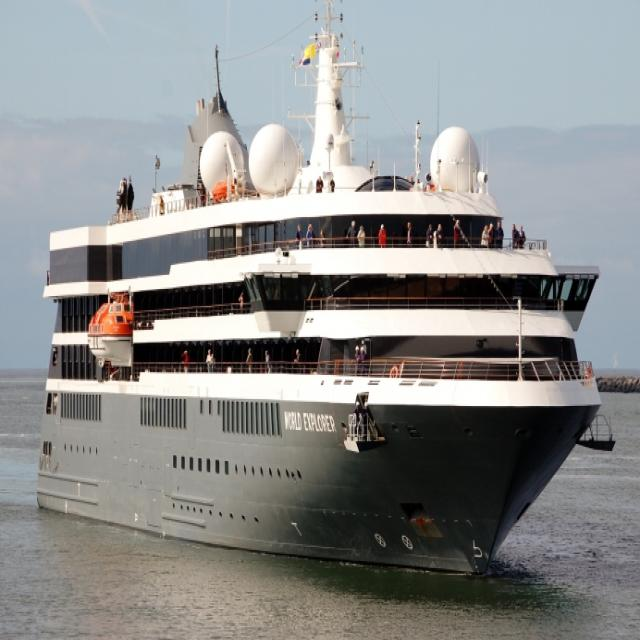cruises: (30, 1, 606, 597)
